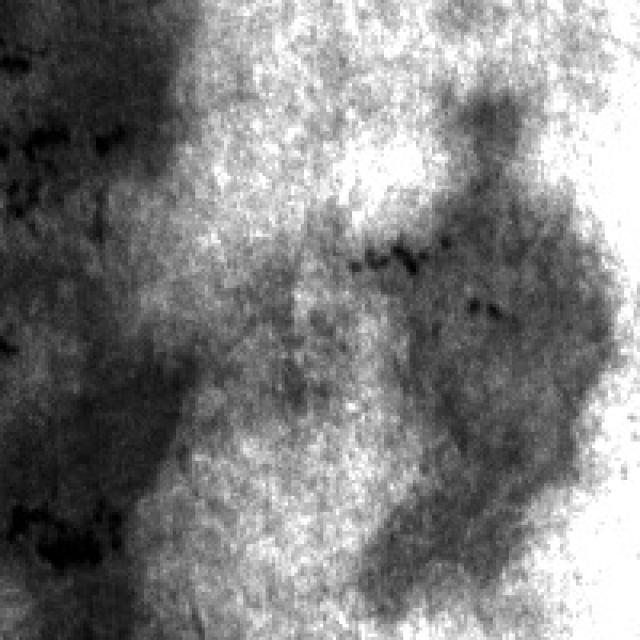patches: (355, 83, 618, 614), (7, 250, 212, 620), (10, 0, 188, 234)
